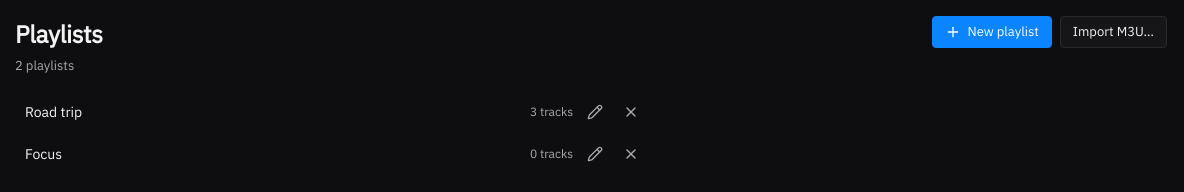
Test: PlaylistsView › rename › renames inline (Enter) with a PATCH
Click the button named "Rename playlist" next to "0 tracks".
click(595, 154)  # box [581,142,609,166]
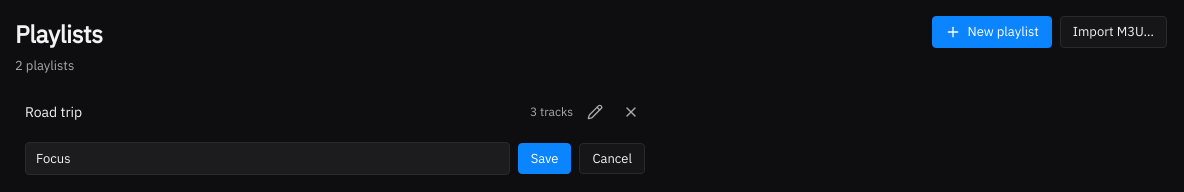
Now the field named "New playlist name" holds "Focus"
Replace the text in the field named "New playlist name" with "Deep focus" at (267, 158), box [25,142,510,175]
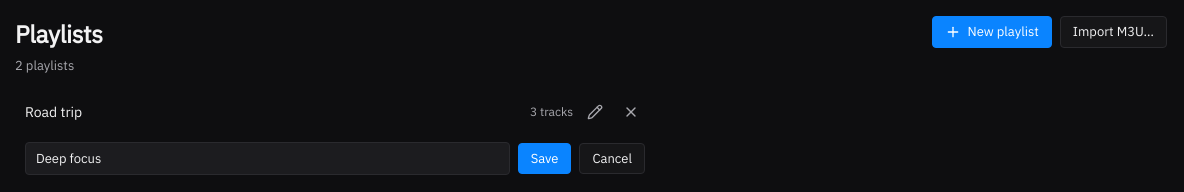
Press Enter in the field named "New playlist name", box [25,142,510,175]
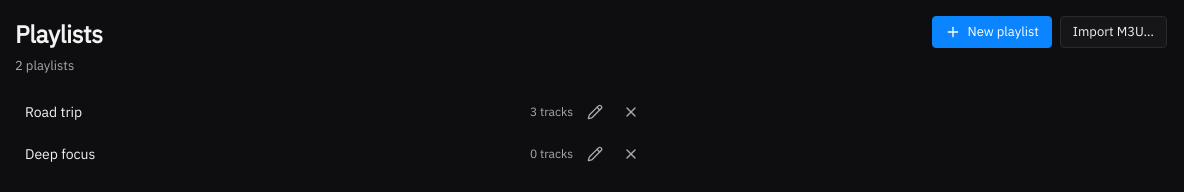
Now the button "Deep focus" is shown, box [25,144,522,164]
